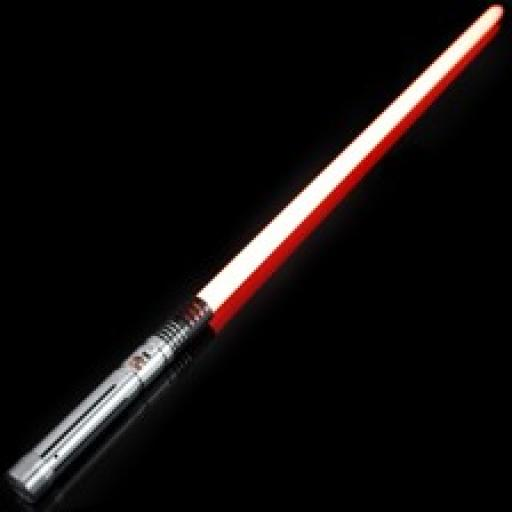lightsaber: (10, 5, 504, 506)
